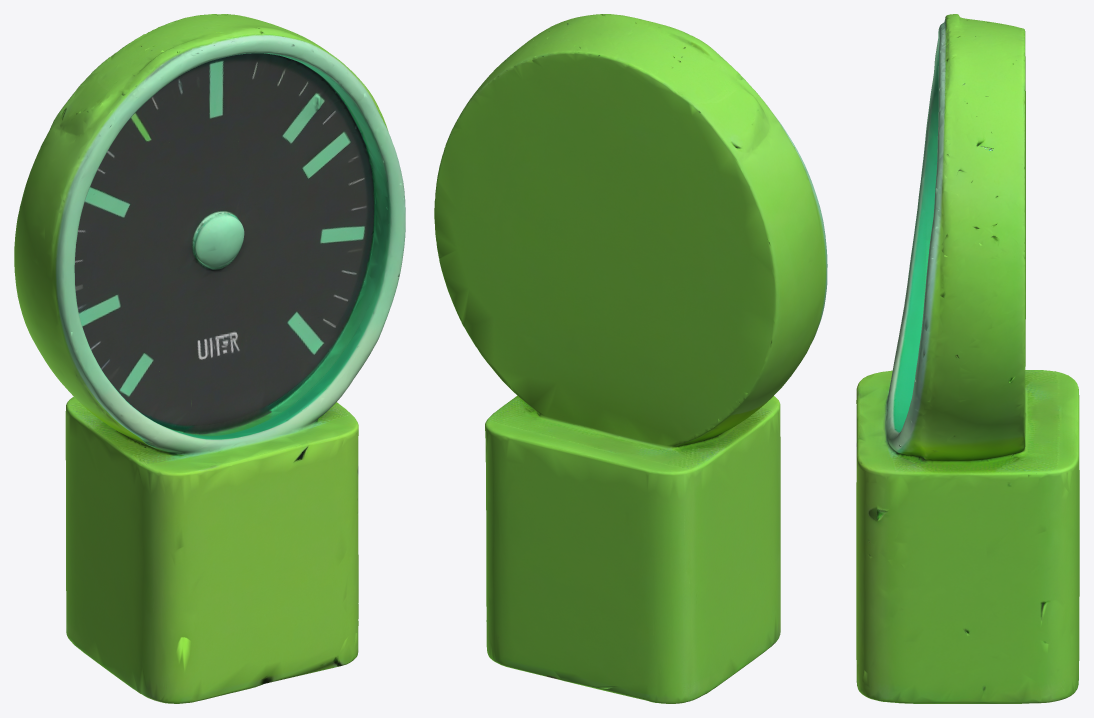
File: evaluator.glb
The picture shows the model from 3 angles, left to right: view 1: azimuth 30°, elevation 25°; view 2: azimuth 150°, elevation 25°; view 3: azimuth 270°, elevation 25°; orthographic projection.
Size of the model in its own units: 1.2 by 2 by 0.6557.
1 material, 1 textured.
